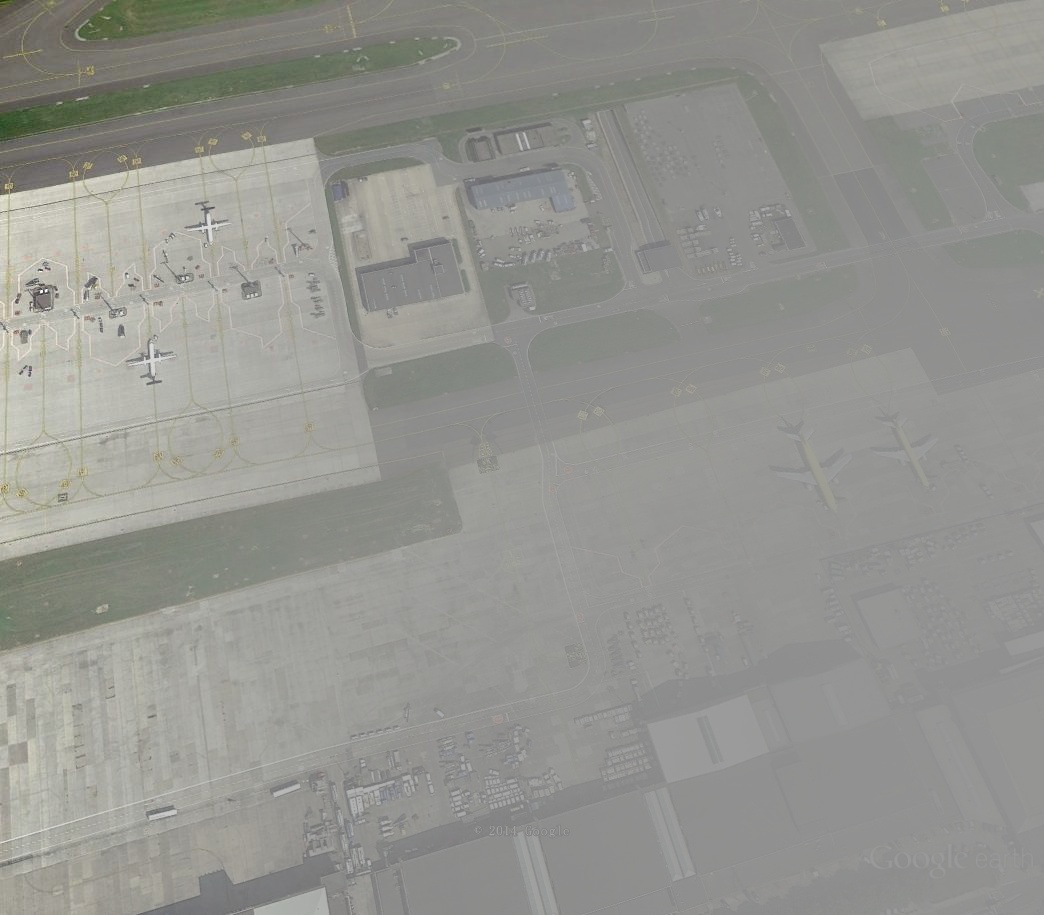aircraft: (772, 429, 856, 519), (869, 416, 943, 492), (126, 340, 178, 386), (185, 207, 234, 248)
